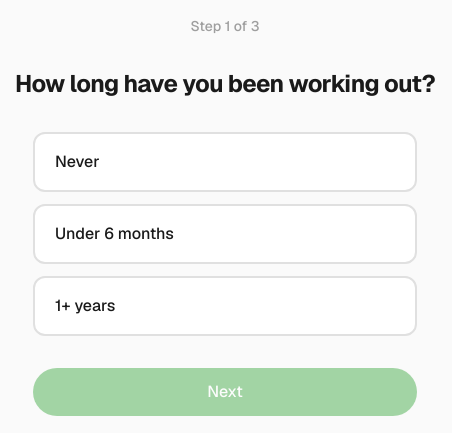
Test: Onboarding Quiz › advances to the second question when Next is clicked
Click the button "Never" at (77, 162), box [33,132,417,192]
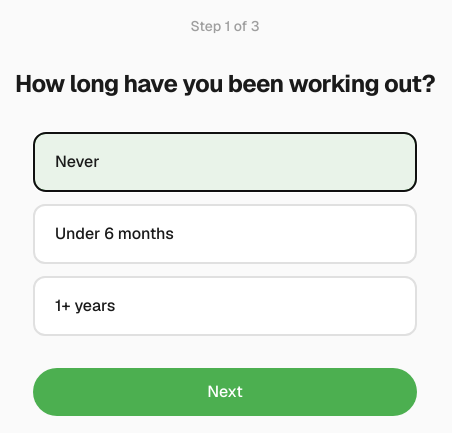
Click the button "Next" at (225, 392), box [33,368,417,416]
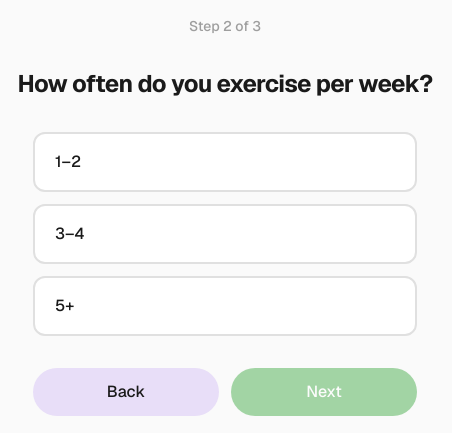
Check: the heading "How often do you exercise per week?" is shown, box [17,68,432,100]
Check: the text "Step 2 of 3" is shown, box [189,16,261,36]
